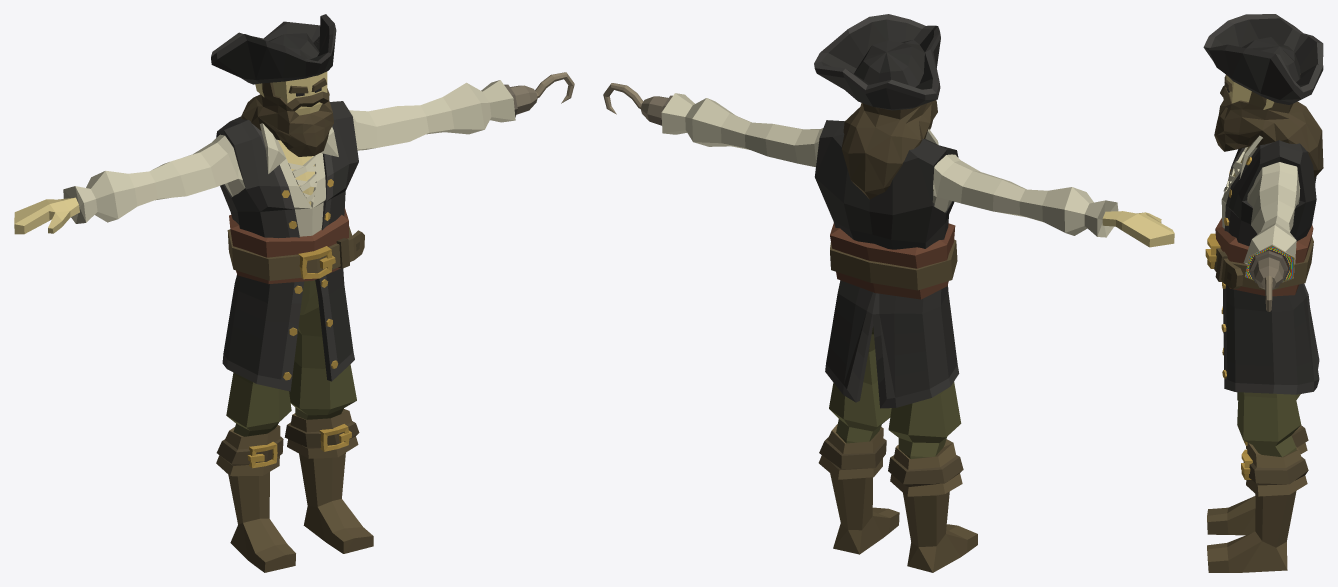
Rendered from PirateCaptain_1.fbx.
The picture shows the model from 3 angles, left to right: view 1: azimuth 30°, elevation 25°; view 2: azimuth 150°, elevation 25°; view 3: azimuth 270°, elevation 25°; orthographic projection.
Parts seen in each view (by area): view 1: PirateCapitan_1; view 2: PirateCapitan_1; view 3: PirateCapitan_1.
Part boxes in pixels (x1=…): PirateCapitan_1: x1=14, y1=14, x2=574, y2=572; PirateCapitan_1: x1=603, y1=14, x2=1174, y2=572; PirateCapitan_1: x1=1203, y1=14, x2=1323, y2=572.
Size of the model in its own units: 208 by 181 by 38.35.
